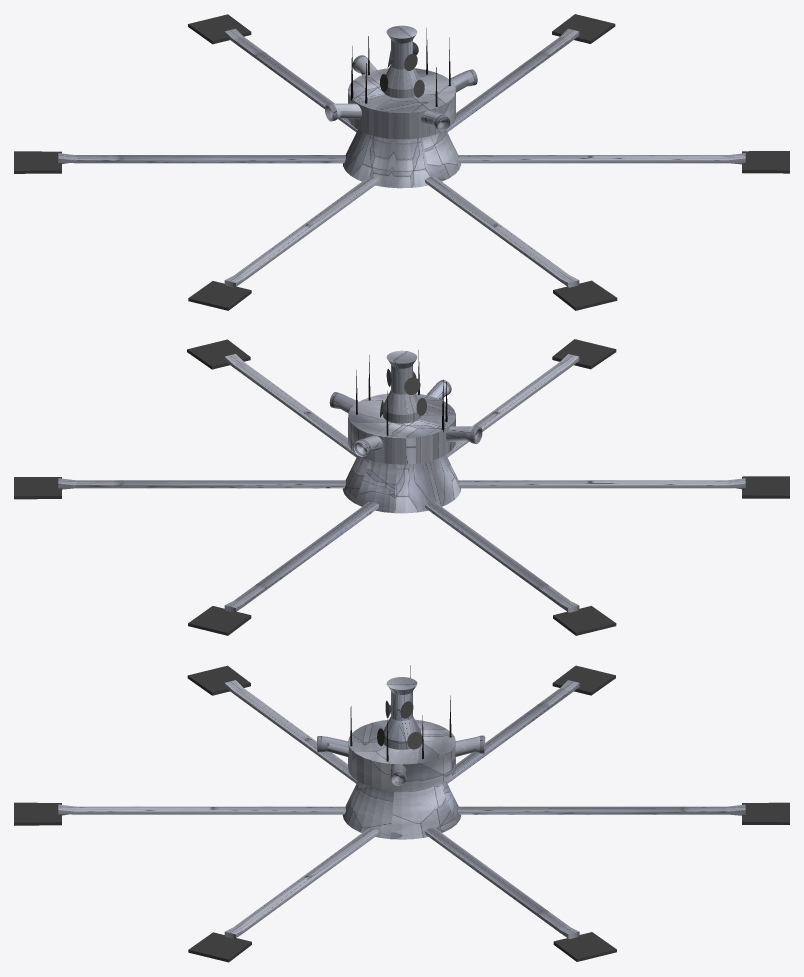
The model's file is stationTop.glb.
3 views of the same model, one above another, from view 1: azimuth 30°, elevation 25°; view 2: azimuth 150°, elevation 25°; view 3: azimuth 270°, elevation 25° (orthographic).
Parts seen in each view (by area): view 1: Cylinder.003, Cylinder.001, Cube, Cylinder.004, Cylinder.002, Cone.006; view 2: Cylinder.003, Cylinder.001, Cube, Cylinder.004, Cylinder.002, Cone.006; view 3: Cylinder.003, Cylinder.001, Cube, Cylinder.002, Cone.006.
Part boxes in pixels (bbox=[...]): Cylinder.003: bbox=[58, 28, 745, 287]; Cylinder.001: bbox=[343, 25, 461, 188]; Cube: bbox=[14, 14, 789, 310]; Cylinder.004: bbox=[325, 69, 477, 121]; Cylinder.002: bbox=[352, 55, 450, 131]; Cone.006: bbox=[380, 42, 424, 97]; Cylinder.003: bbox=[58, 354, 745, 612]; Cylinder.001: bbox=[342, 350, 460, 513]; Cube: bbox=[14, 339, 789, 635]; Cylinder.004: bbox=[329, 392, 482, 444]; Cylinder.002: bbox=[353, 380, 451, 456]; Cone.006: bbox=[380, 369, 426, 417]; Cylinder.003: bbox=[58, 680, 745, 938]; Cylinder.001: bbox=[342, 677, 461, 839]; Cube: bbox=[14, 665, 789, 962]; Cylinder.002: bbox=[317, 735, 485, 756]; Cone.006: bbox=[377, 700, 422, 749].
Bounding box in the file's own units: 29.02 × 6.1 × 32.36.
Materials: 6 (3 with a texture image).
